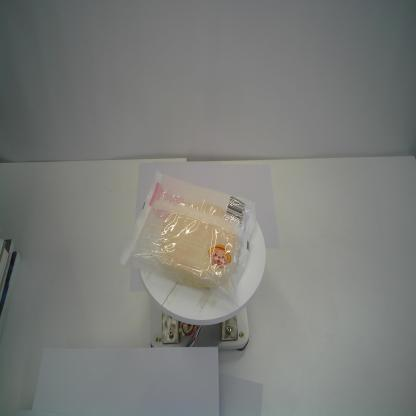Dessert: (118, 167, 258, 311)
